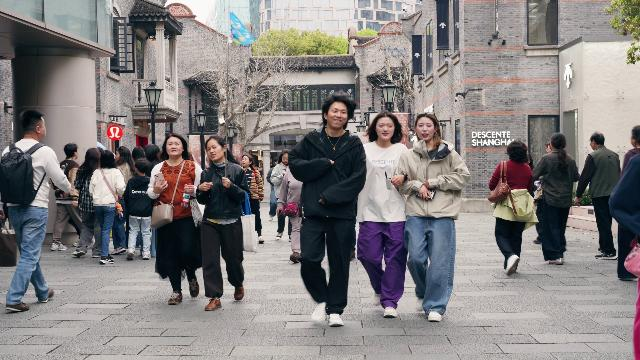person: (287, 90, 368, 326), (396, 111, 471, 322), (0, 109, 71, 314), (355, 111, 410, 318), (146, 133, 203, 304), (196, 135, 251, 311), (488, 141, 539, 276), (533, 133, 579, 265), (574, 131, 620, 261), (89, 149, 128, 265), (50, 143, 84, 252), (70, 146, 102, 258), (617, 126, 640, 281), (109, 146, 135, 255), (240, 154, 265, 244), (144, 144, 164, 256), (284, 140, 287, 149)
